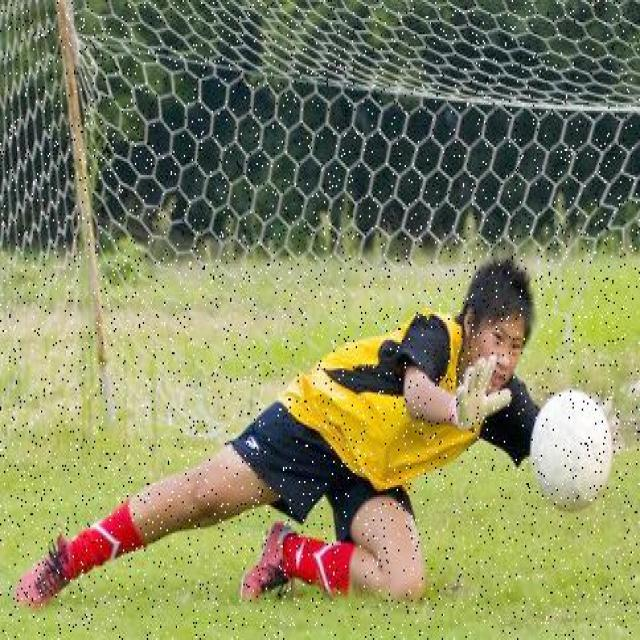fall: (31, 272, 548, 600)
